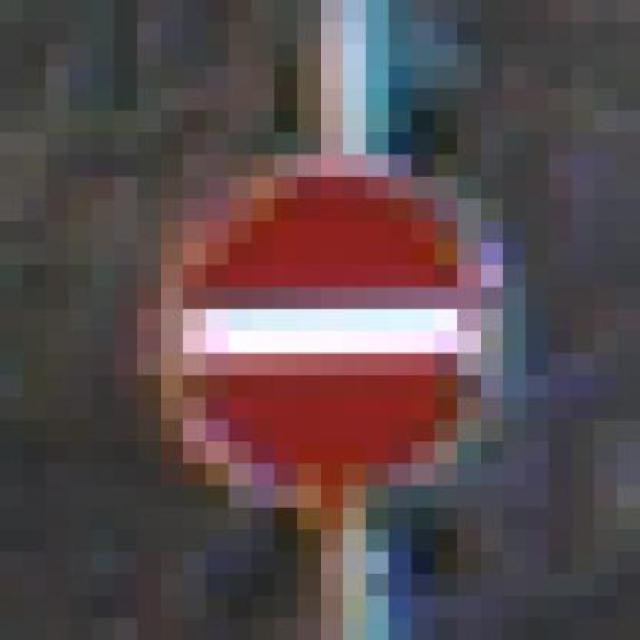B2: (161, 164, 501, 512)
